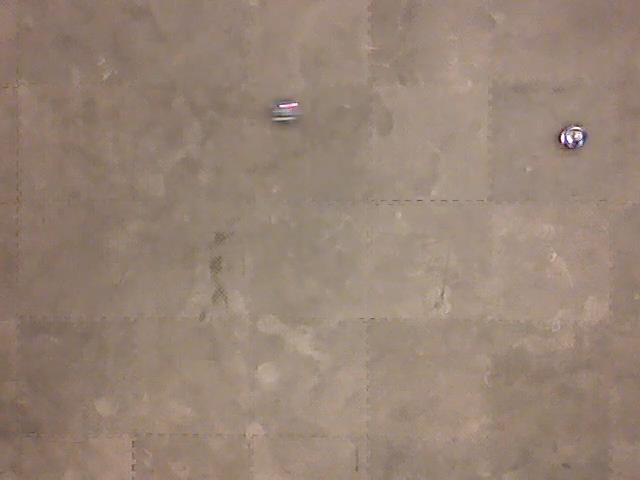Agent: (555, 121, 591, 153), (270, 96, 302, 127)
